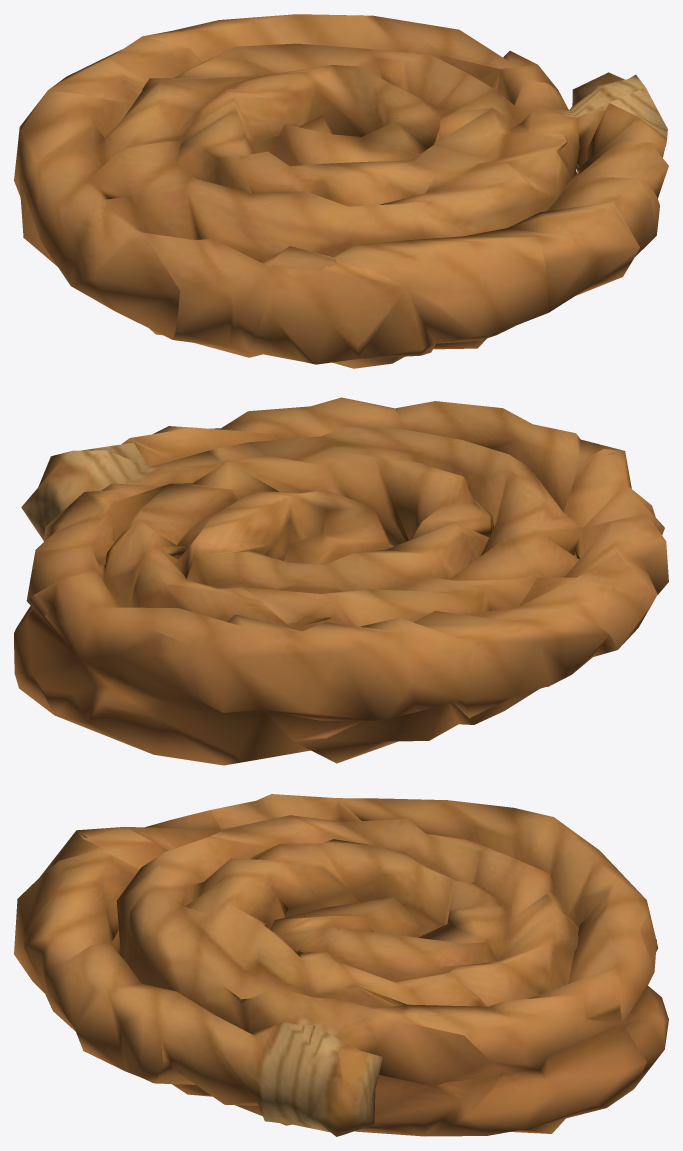
Rendered from model-prop-rope-coil-01.glb.
3 renders of one model, top to bottom at view 1: azimuth 30°, elevation 25°; view 2: azimuth 150°, elevation 25°; view 3: azimuth 270°, elevation 25°, orthographic. The views are drawn at different scales.
Visible parts, largest first — view 1: tripo_node_31384817-f05e-47ff-a560-c52528b52d75; view 2: tripo_node_31384817-f05e-47ff-a560-c52528b52d75; view 3: tripo_node_31384817-f05e-47ff-a560-c52528b52d75.
Part boxes in pixels (bbox=[...]): tripo_node_31384817-f05e-47ff-a560-c52528b52d75: bbox=[14, 14, 668, 368]; tripo_node_31384817-f05e-47ff-a560-c52528b52d75: bbox=[14, 397, 668, 765]; tripo_node_31384817-f05e-47ff-a560-c52528b52d75: bbox=[14, 794, 668, 1136].
Size of the model in its own units: 3.94 by 1 by 3.88.
Materials: 1 (1 with a texture image).
